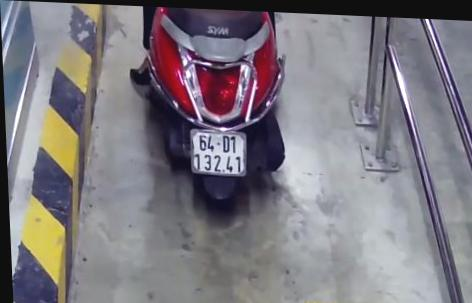License_Plate: (186, 125, 253, 184)
